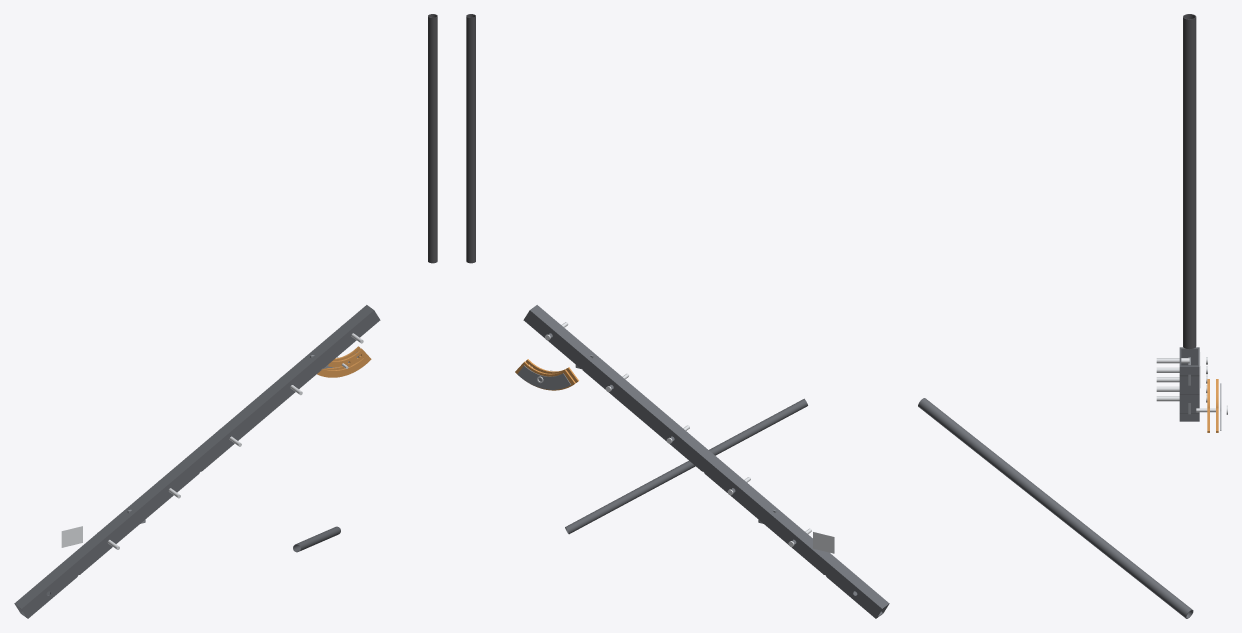
File: str_B1.glb
3 views of the same model, side by side, from view 1: azimuth 30°, elevation 25°; view 2: azimuth 150°, elevation 25°; view 3: azimuth 270°, elevation 25° (orthographic). The views are drawn at different scales.
Visible parts, largest first — view 1: =>[0:1:1:4], =>[0:1:1:30], =>[0:1:1:6]; view 2: =>[0:1:1:4], =>[0:1:1:30], =>[0:1:1:38], =>[0:1:1:10]; view 3: =>[0:1:1:30], =>[0:1:1:38], =>[0:1:1:4].
Boxes of the visible parts, box(x1,y1,x2,y2) form: =>[0:1:1:4]: box(14, 305, 380, 618); =>[0:1:1:30]: box(428, 14, 437, 263); =>[0:1:1:6]: box(317, 348, 371, 377); =>[0:1:1:4]: box(523, 305, 889, 618); =>[0:1:1:30]: box(466, 14, 475, 263); =>[0:1:1:38]: box(565, 398, 807, 534); =>[0:1:1:10]: box(517, 365, 570, 389); =>[0:1:1:30]: box(1183, 14, 1196, 349); =>[0:1:1:38]: box(918, 398, 1193, 618); =>[0:1:1:4]: box(1179, 347, 1199, 421).
Bounding box in the file's own units: 1.97 × 2.25 × 0.9376.
